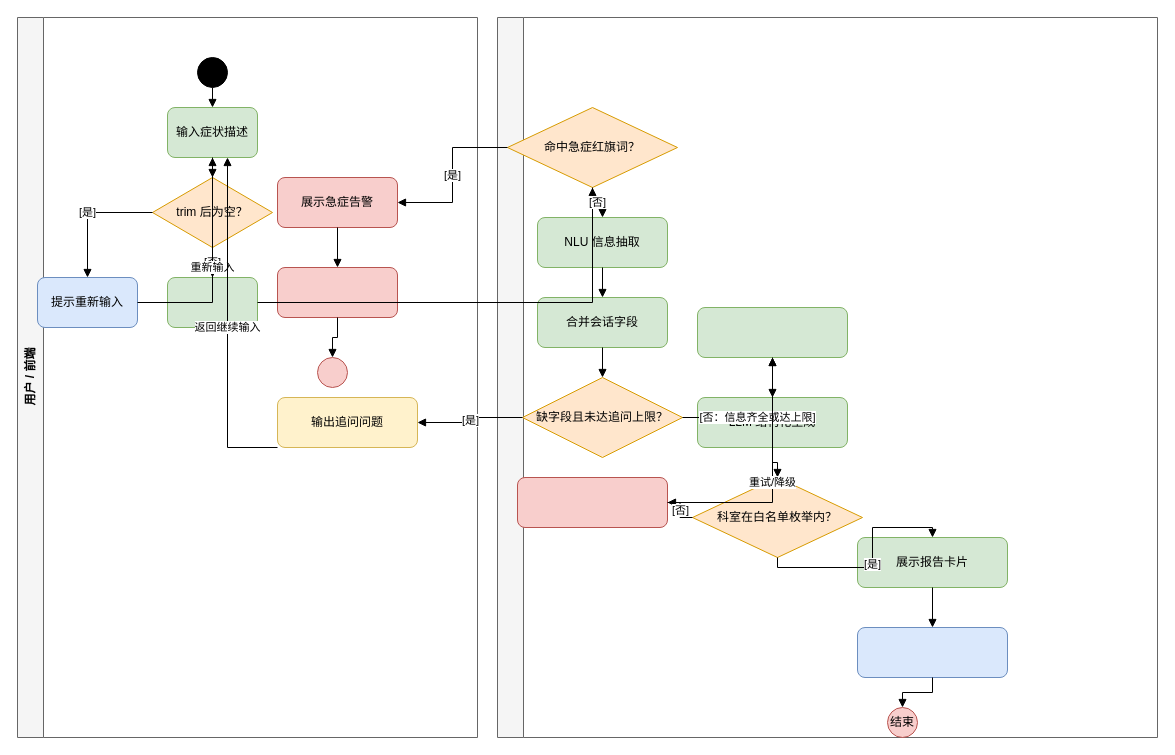
The diagram is 1175 pixels wide and 755 high, and some of its shapes have lost their labels. Here are the shapes that lost their labels. From the top down, the box of each, then its label:
(166, 276, 258, 328): 提交到后端
(276, 266, 398, 318): 拨打120 / 返回修改
(696, 306, 848, 358): 规则检索 + 向量证据
(316, 356, 348, 388): 结束(急症)
(496, 16, 1158, 738): 后端（编排 + Agent 能力）
(516, 476, 668, 528): 拒绝/降级（mock 兜底）
(856, 626, 1008, 678): 可选：一键复制话术
